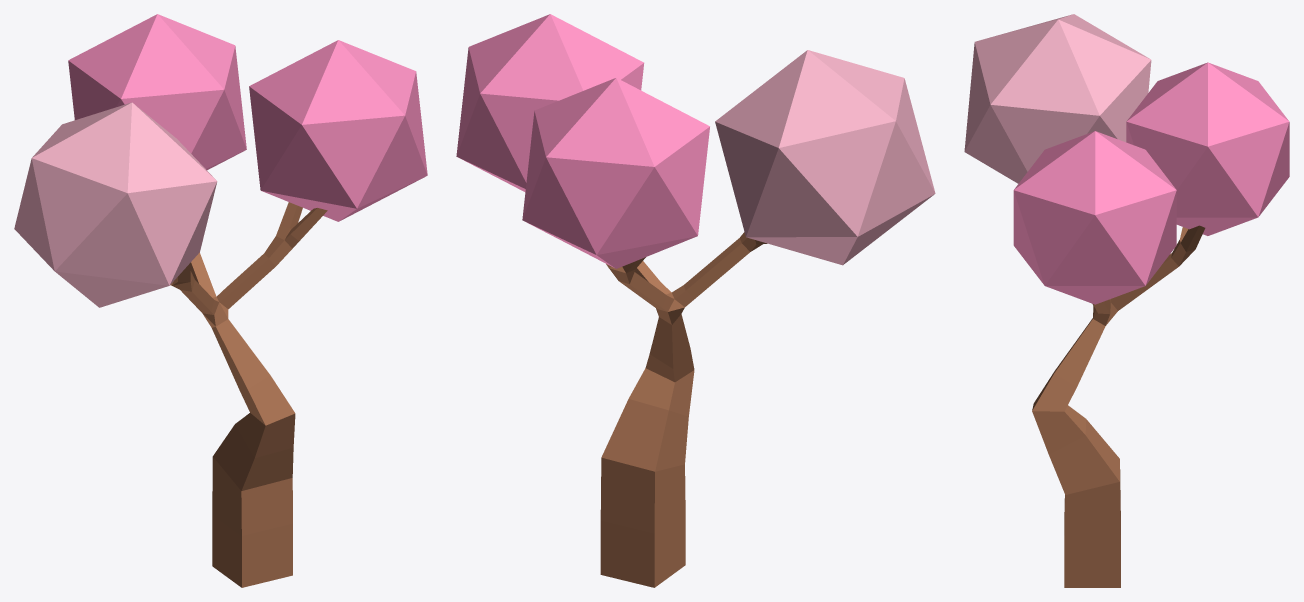
Rendered from tree_pink_02.fbx.
The picture shows the model from 3 angles, left to right: view 1: azimuth 30°, elevation 25°; view 2: azimuth 150°, elevation 25°; view 3: azimuth 270°, elevation 25°; orthographic projection. The views are drawn at different scales.
Parts seen in each view (by area): view 1: Icosphere.009, Icosphere.007, Cube.001, Icosphere.008; view 2: Icosphere.009, Icosphere.008, Cube.001, Icosphere.007; view 3: Icosphere.007, Icosphere.009, Icosphere.008, Cube.001.
Part boxes in pixels (box(x1,y1,x2,y2)): Icosphere.009: box(14, 102, 217, 307); Icosphere.007: box(249, 40, 427, 221); Cube.001: box(170, 202, 327, 587); Icosphere.008: box(68, 14, 246, 170); Icosphere.009: box(715, 50, 935, 265); Icosphere.008: box(522, 77, 709, 268); Cube.001: box(600, 232, 767, 587); Icosphere.007: box(456, 14, 644, 191); Icosphere.007: box(1013, 131, 1176, 304); Icosphere.009: box(964, 14, 1151, 183); Icosphere.008: box(1126, 62, 1289, 235); Cube.001: box(1032, 225, 1205, 587).
Size of the model in its own units: 1056 by 1305 by 773.
